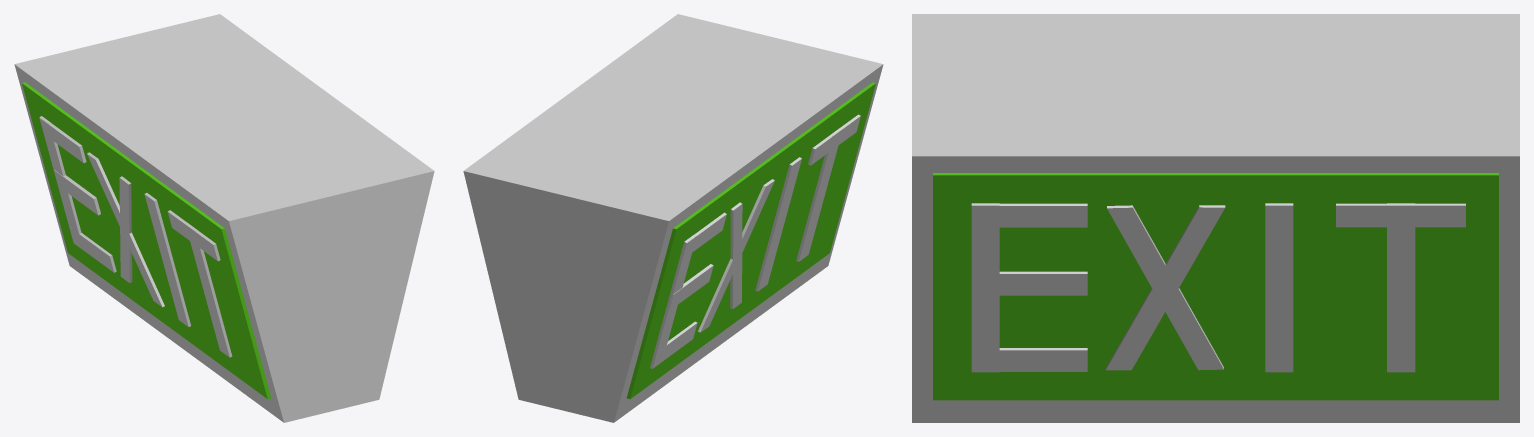
The model's file is exit sign.fbx.
The picture shows the model from 3 angles, left to right: view 1: azimuth 30°, elevation 25°; view 2: azimuth 150°, elevation 25°; view 3: azimuth 270°, elevation 25°; orthographic projection. The views are drawn at different scales.
Visible parts, largest first — view 1: Cube.008; view 2: Cube.008; view 3: Cube.008.
Part boxes in pixels (left/top/right/bottom): Cube.008: left=14, top=14, right=434, bottom=422; Cube.008: left=463, top=14, right=883, bottom=422; Cube.008: left=912, top=14, right=1519, bottom=422.
Bounding box in the file's own units: 200 × 200 × 361.
